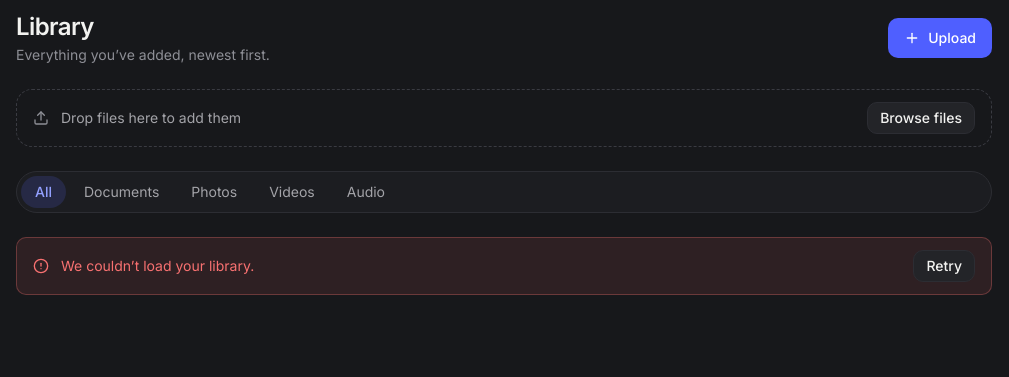
Test: LibraryPage › shows a friendly error with Retry when loading fails
The image size is (1009, 377).
Expected: the message shows "We couldn’t load your library.", x1=61 y1=257 x2=254 y2=274
What coordinates should you click on to do the following:
click the button "Retry"
I would click on:
 (944, 266)
Its box is x1=913 y1=250 x2=975 y2=282.
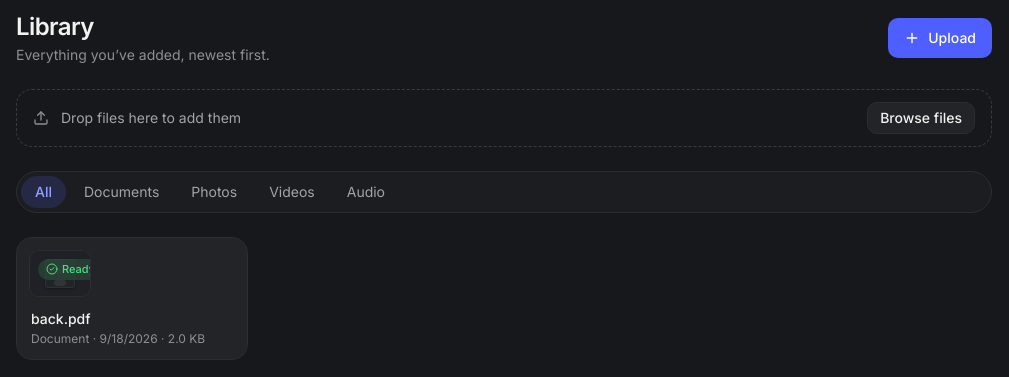
Expected: the text "back.pdf" is shown, x1=31 y1=310 x2=90 y2=327
